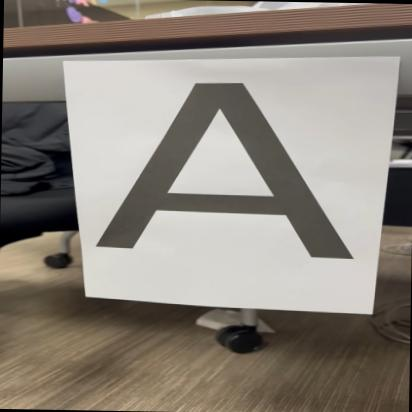seat: (81, 68, 374, 264)
